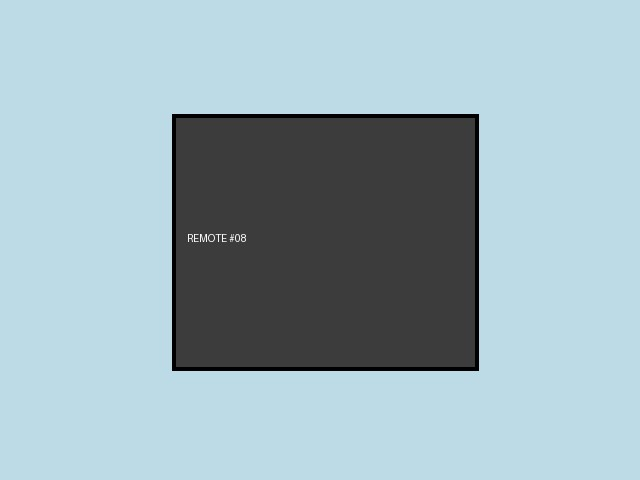remote: (172, 114, 478, 370)
